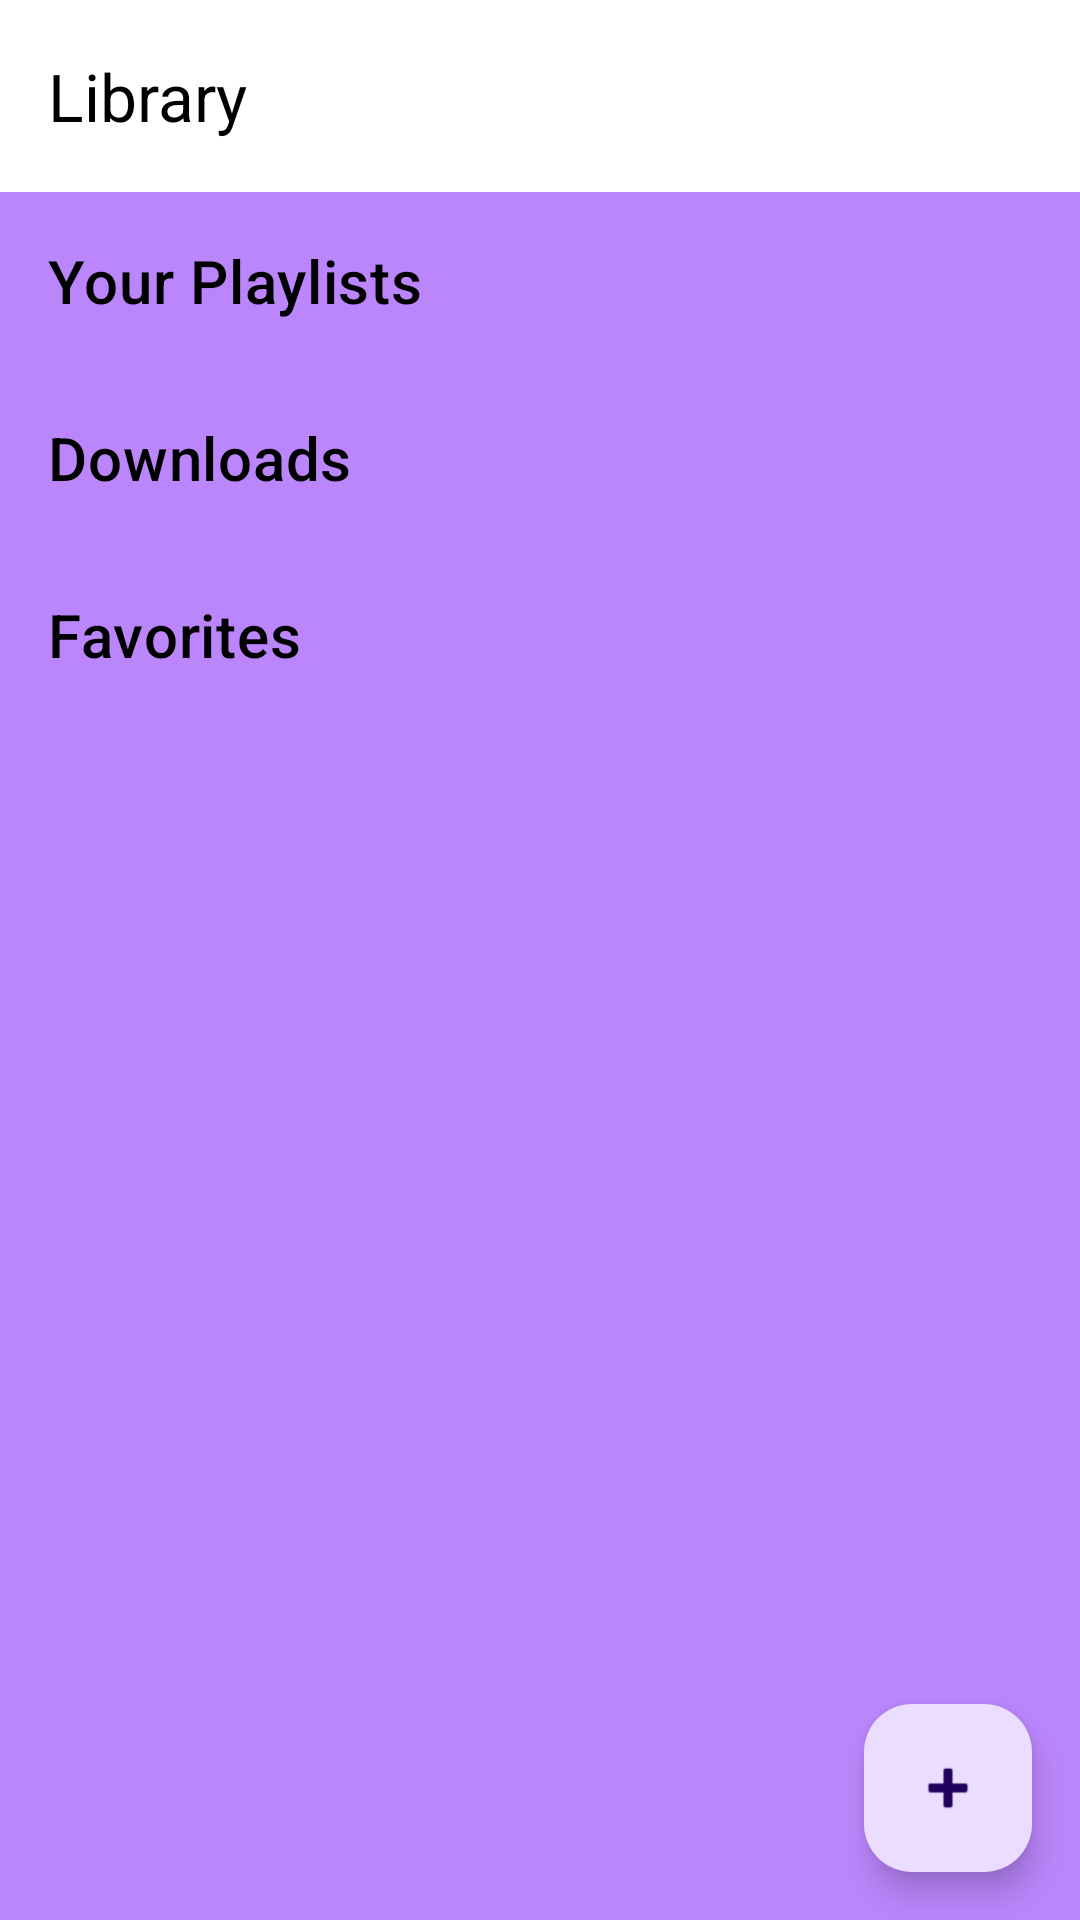

Where to tap for icons on this 1080w x 1920h app screen, as point (x, y):
Create new playlist: point (948, 1788)
